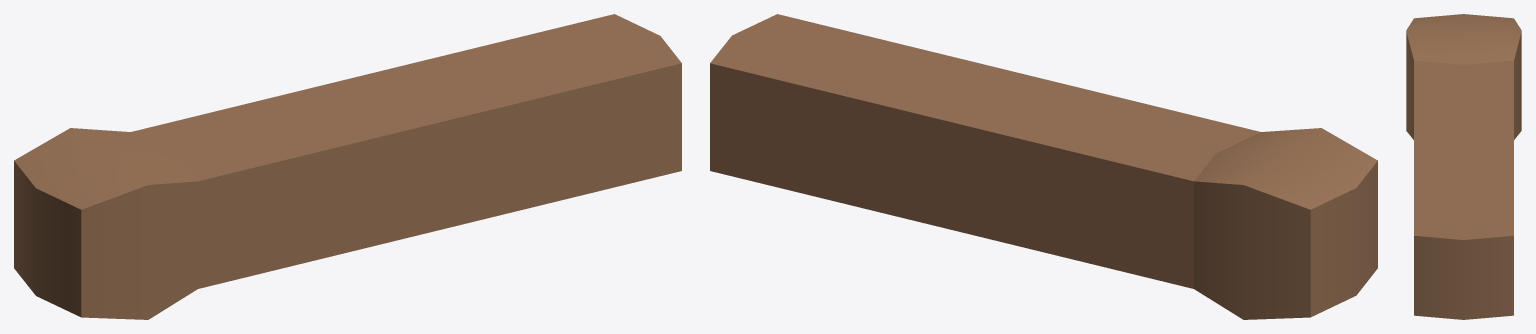
Rendered from Light_Base_01_A.fbx.
3 renders of one model, left to right at view 1: azimuth 30°, elevation 25°; view 2: azimuth 150°, elevation 25°; view 3: azimuth 270°, elevation 25°, orthographic. The views are drawn at different scales.
Visible parts, largest first — view 1: Light_Base_01_A; view 2: Light_Base_01_A; view 3: Light_Base_01_A.
Boxes of the visible parts, x1=… form: Light_Base_01_A: x1=14, y1=14, x2=681, y2=319; Light_Base_01_A: x1=710, y1=14, x2=1377, y2=319; Light_Base_01_A: x1=1406, y1=14, x2=1521, y2=319.
Bounding box in the file's own units: 21.59 × 4.46 × 4.67.
